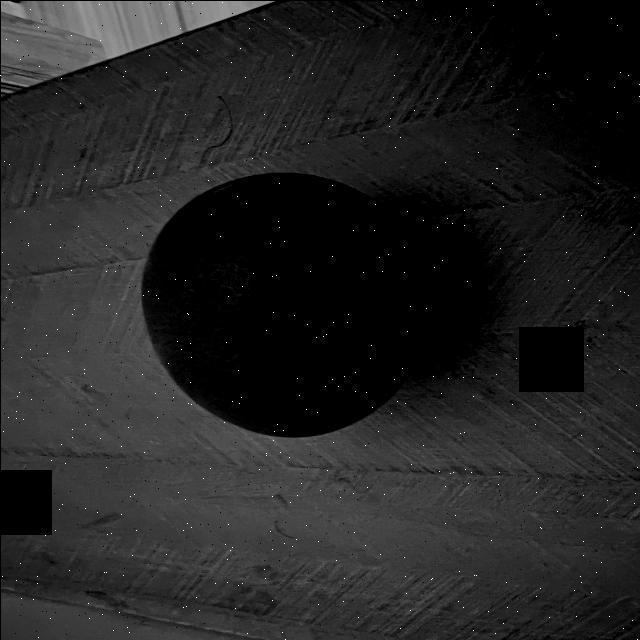egg: (134, 168, 439, 444)
